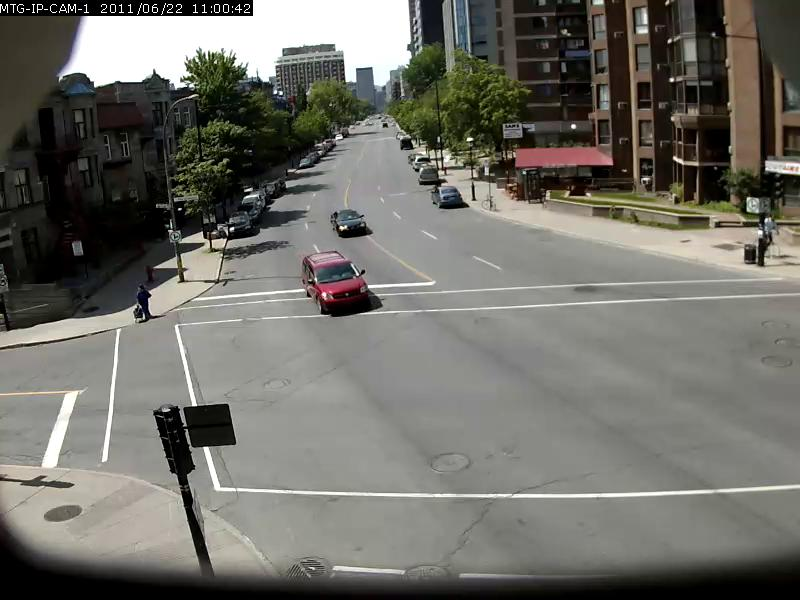Car: (301, 249, 372, 312), (328, 207, 368, 237)
